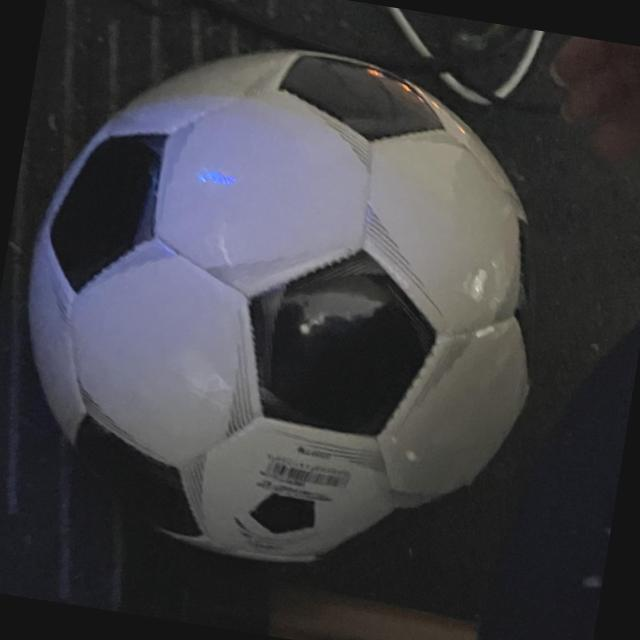Soccer Ball: (0, 13, 582, 600)
